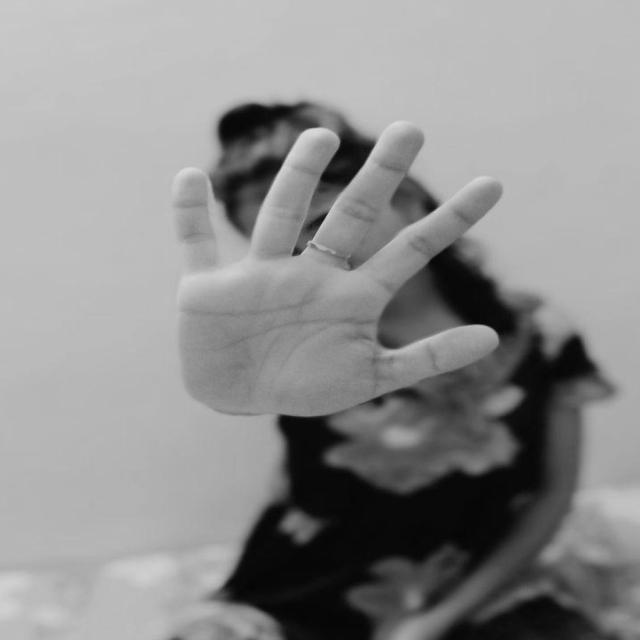stop: (165, 114, 518, 438)
